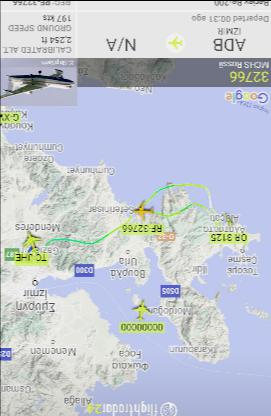B52: (1, 67, 74, 99)
